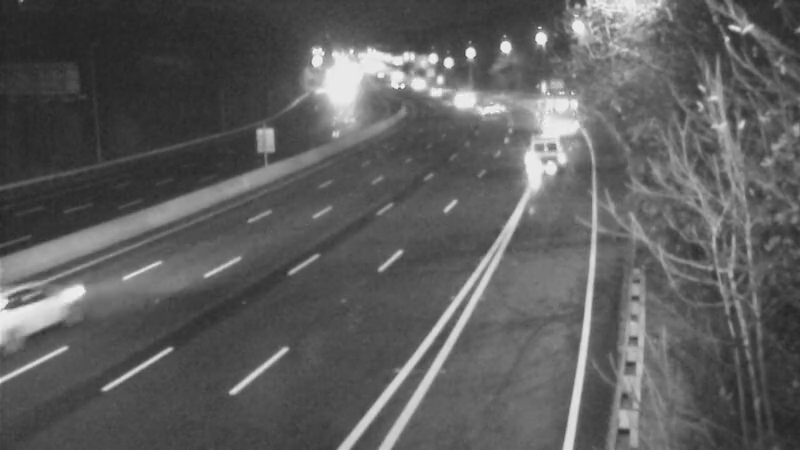vehicle: (1, 251, 101, 361), (507, 122, 587, 202), (411, 68, 461, 118), (434, 74, 484, 124), (465, 85, 515, 135), (535, 103, 585, 153)
